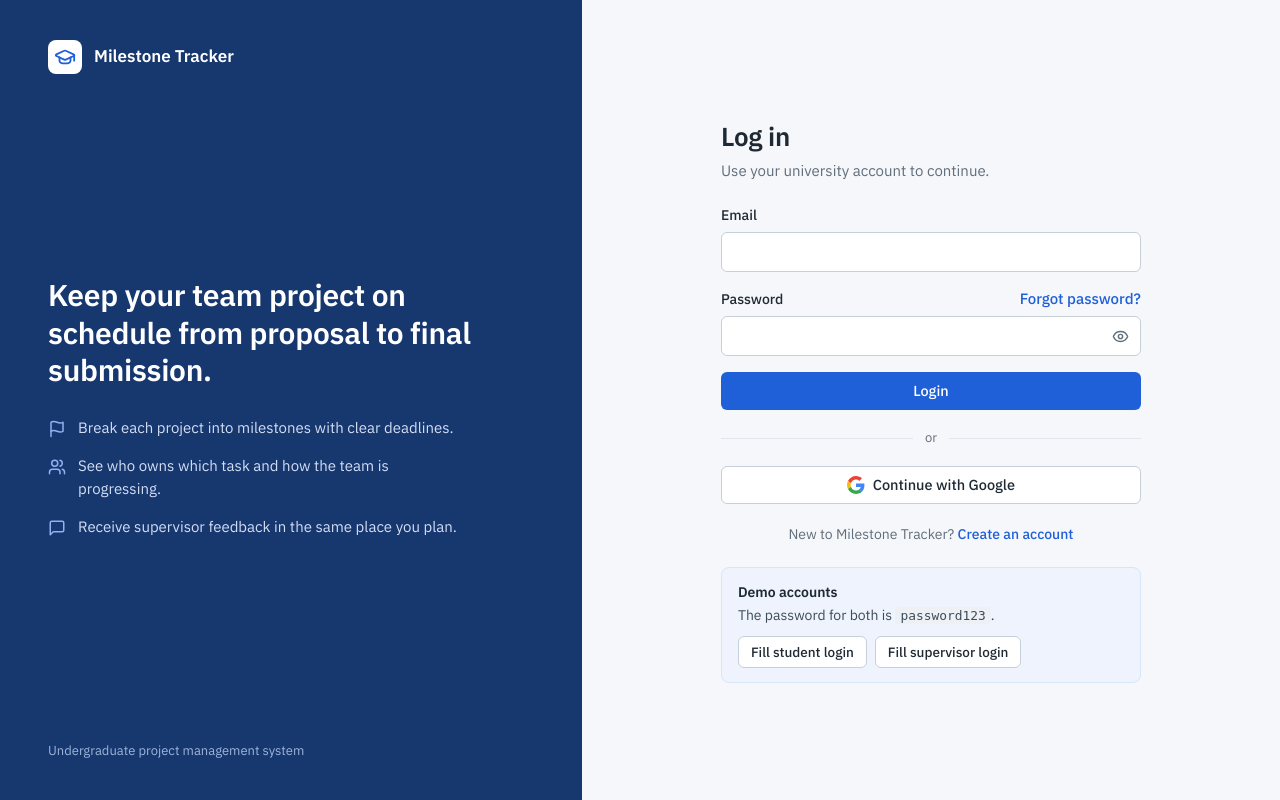
Test: supervisor journey › cannot open the student dashboard
The image size is (1280, 800).
Type "supervisor@uni.edu" into the field labelled "Email" at {"x": 931, "y": 252}, box [721, 232, 1141, 272]
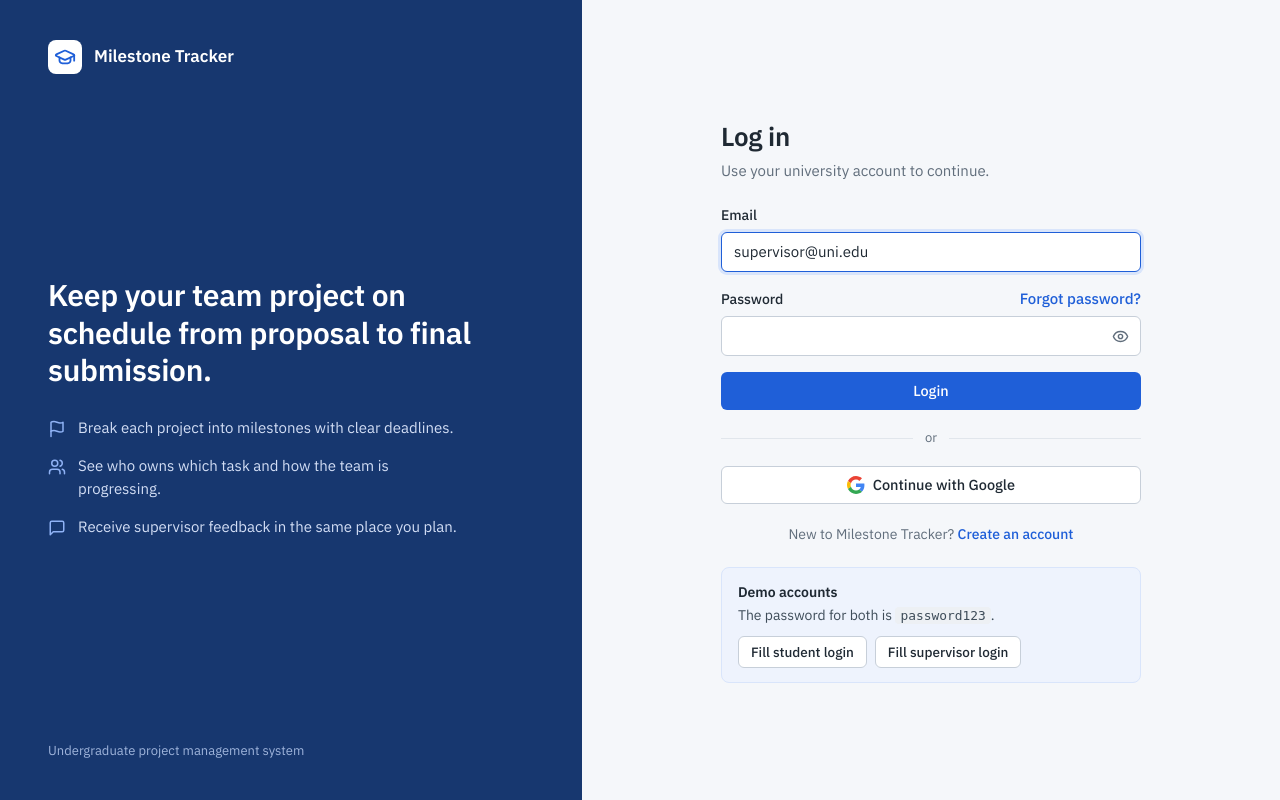
Type "password123" into the password field labelled "Password" at {"x": 931, "y": 336}, box [721, 316, 1141, 356]
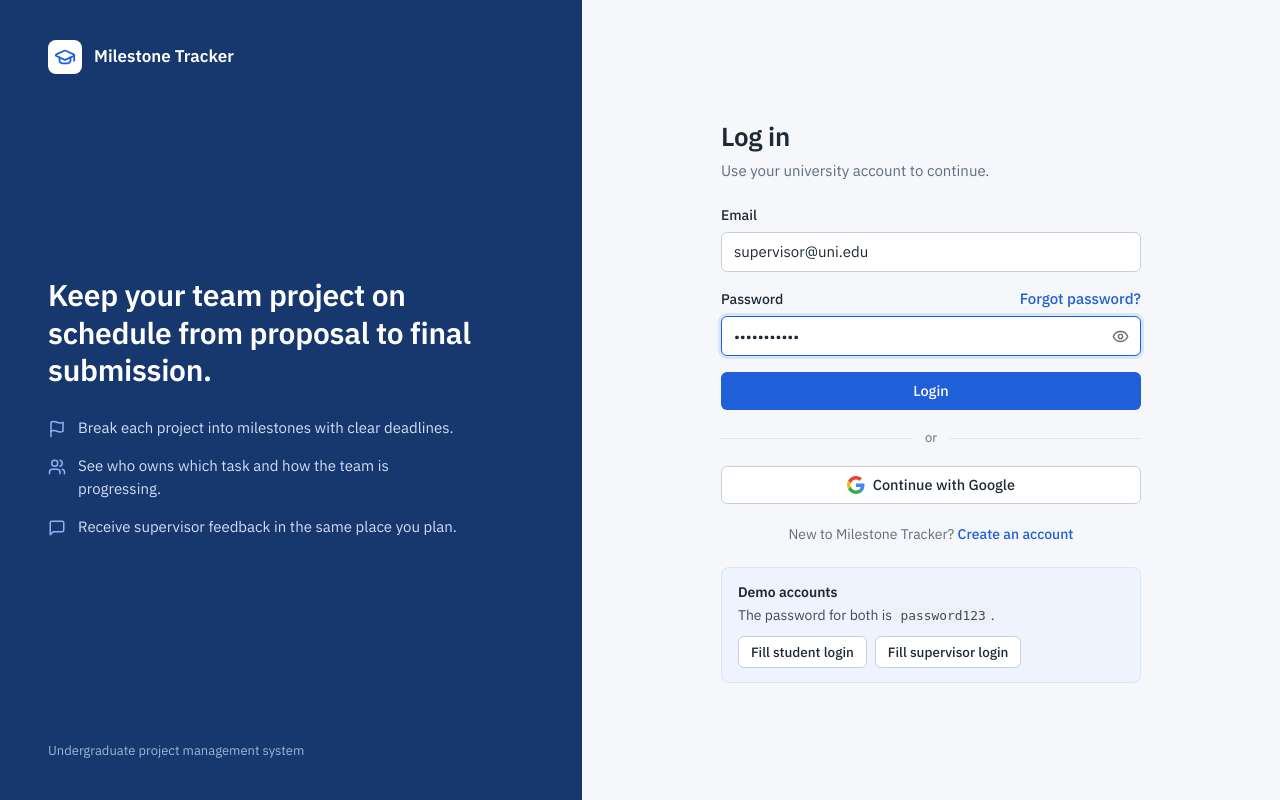
Click the button "Login" at {"x": 931, "y": 391}, box [721, 372, 1141, 410]
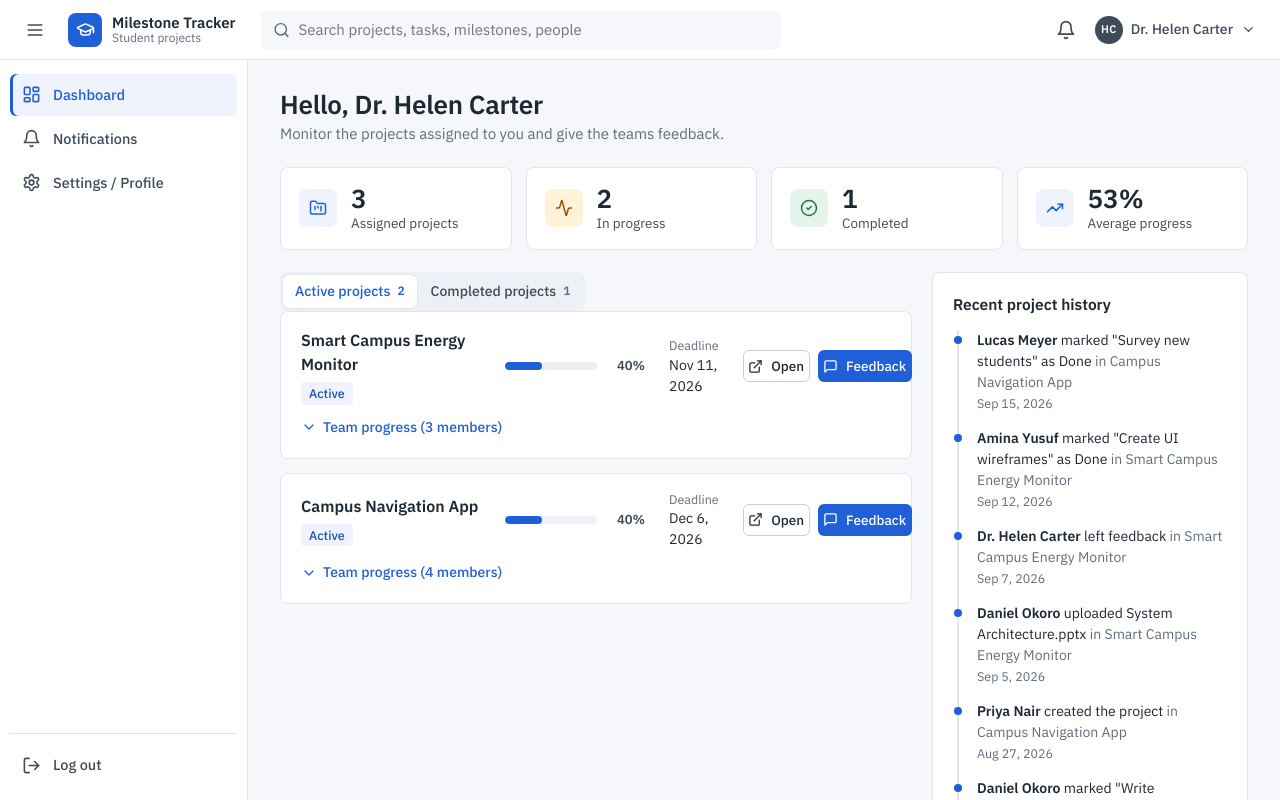
Now the text "Assigned projects" is shown, box [351, 213, 458, 233]
